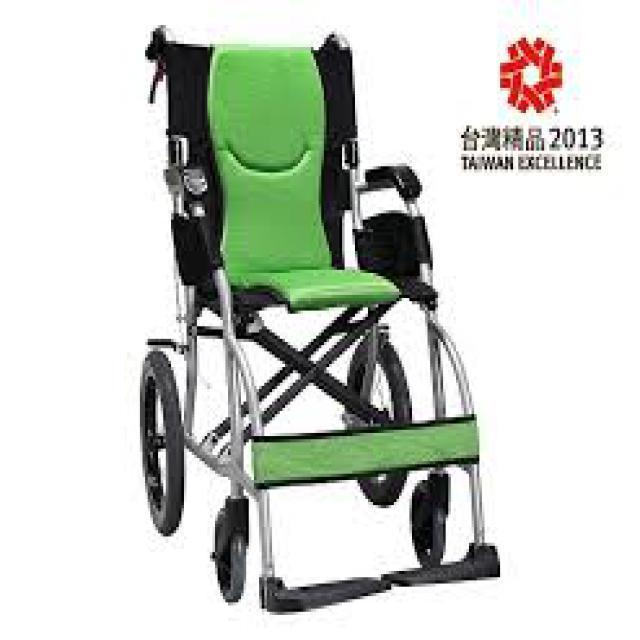wheelchairs: (140, 23, 502, 606)
